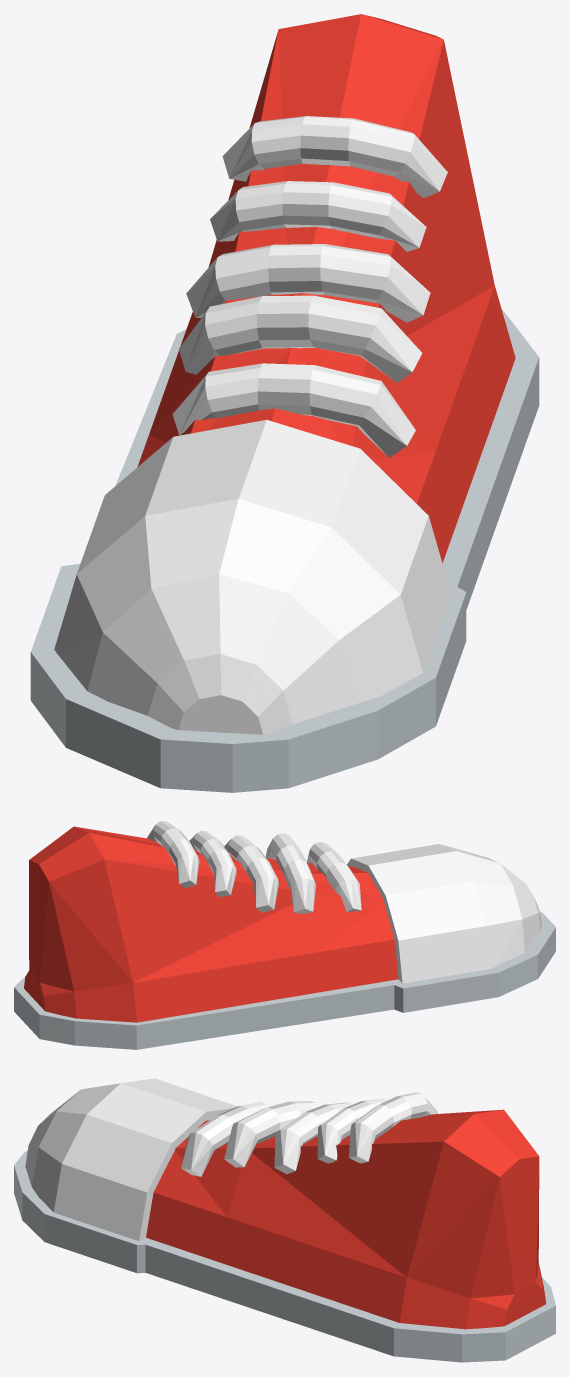
The model's file is group1631947829_lev3.003.glb.
The picture shows the model from 3 angles, top to bottom: view 1: azimuth 30°, elevation 25°; view 2: azimuth 150°, elevation 25°; view 3: azimuth 270°, elevation 25°; orthographic projection. The views are drawn at different scales.
Visible parts, largest first — view 1: group1631947829_lev3.003; view 2: group1631947829_lev3.003; view 3: group1631947829_lev3.003.
Part boxes in pixels (x1,y1,x2,y2): group1631947829_lev3.003: (30, 14, 539, 792); group1631947829_lev3.003: (14, 821, 555, 1049); group1631947829_lev3.003: (14, 1078, 555, 1362).
Size of the model in its own units: 1.58 by 0.761 by 1.76.
